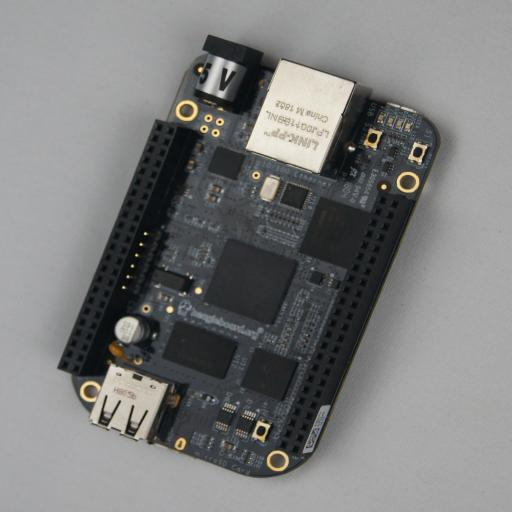Beaglebone Black: (57, 34, 450, 478)
